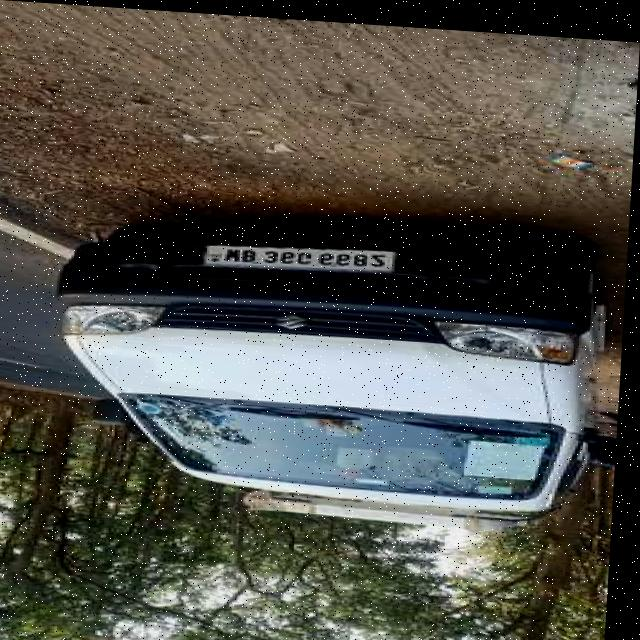plate: (207, 234, 399, 271)
